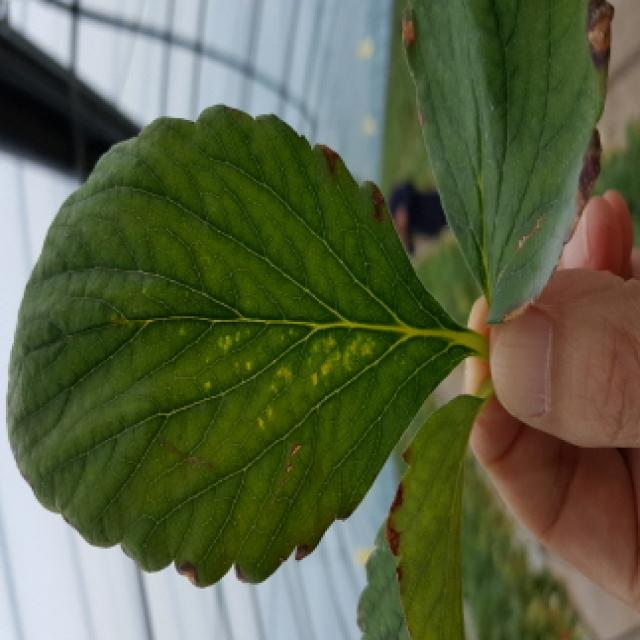Angular Leafspot: (138, 274, 401, 476)
